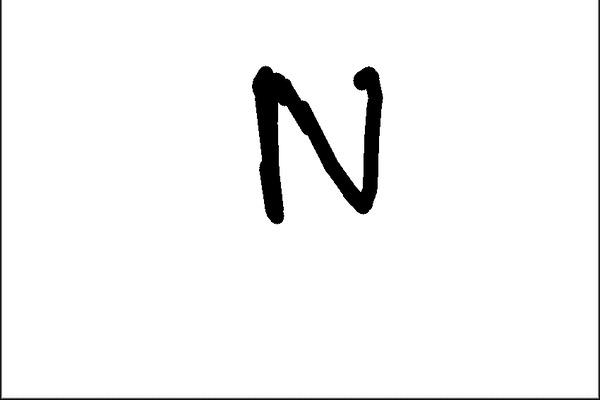N: (245, 56, 390, 230)
